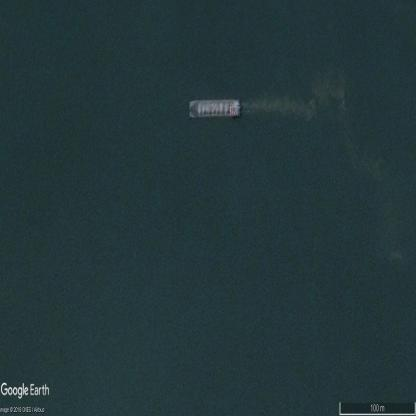ship: (188, 97, 240, 118)
